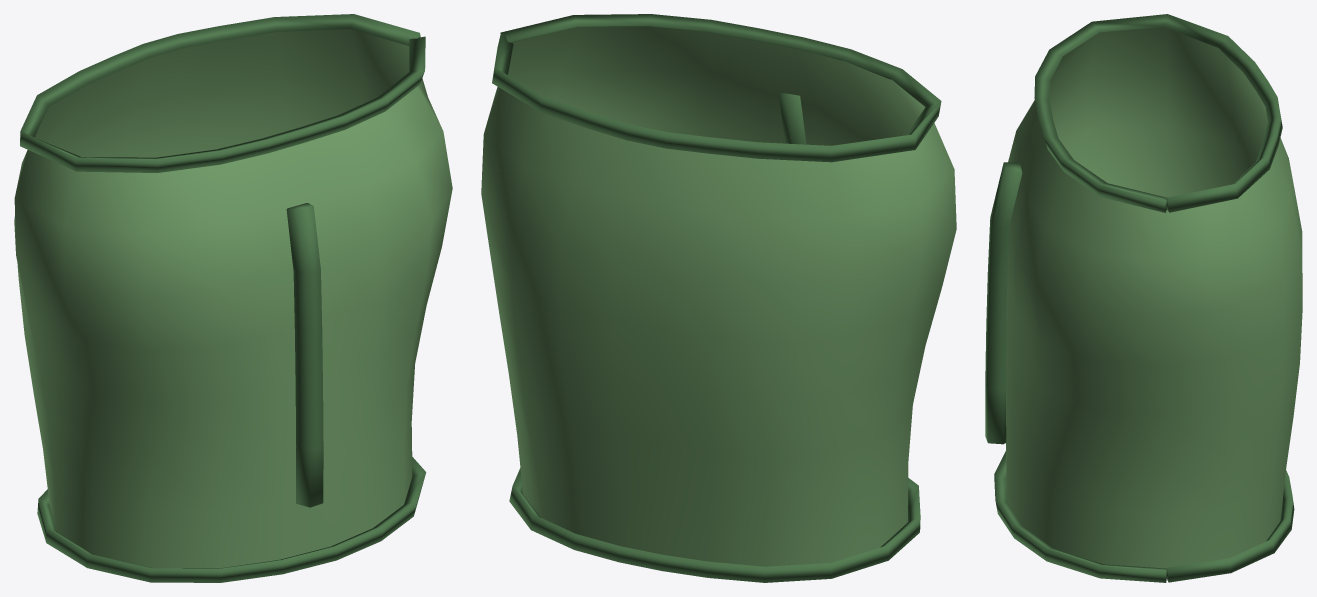
Rendered from tungsten_armor_chest.glb.
3 renders of one model, left to right at view 1: azimuth 30°, elevation 25°; view 2: azimuth 150°, elevation 25°; view 3: azimuth 270°, elevation 25°, orthographic. The views are drawn at different scales.
Visible parts, largest first — view 1: tungsten_armor_chest; view 2: tungsten_armor_chest; view 3: tungsten_armor_chest.
Part boxes in pixels (box(x1,y1,x2,y2)): tungsten_armor_chest: box(14, 14, 452, 582); tungsten_armor_chest: box(481, 14, 956, 582); tungsten_armor_chest: box(985, 14, 1302, 582).
Size of the model in its own units: 0.3976 by 0.3857 by 0.2799.
